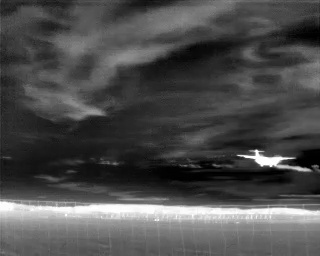AIRPLANE: (234, 146, 297, 170)
